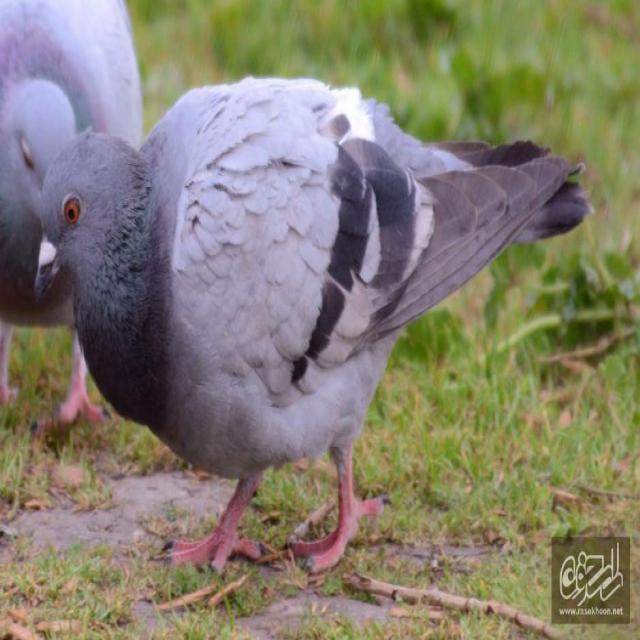bird: (31, 75, 567, 577)
